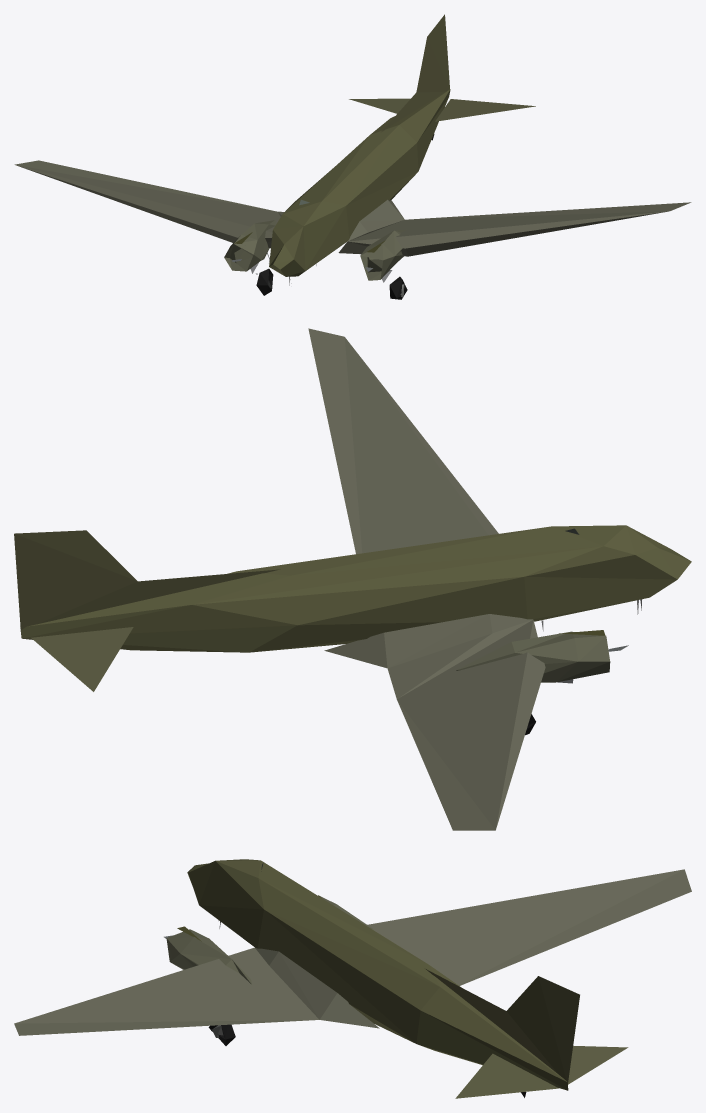
3 views of the same model, one above another, from view 1: azimuth 30°, elevation 25°; view 2: azimuth 150°, elevation 25°; view 3: azimuth 270°, elevation 25° (orthographic). The views are drawn at different scales.
Parts seen in each view (by area): view 1: Torus13-FACES; view 2: Torus13-FACES; view 3: Torus13-FACES.
Part boxes in pixels (x1,y1,x2,y2): Torus13-FACES: [14, 14, 691, 299]; Torus13-FACES: [14, 328, 691, 830]; Torus13-FACES: [14, 859, 691, 1098].
Size of the model in its own units: 19460 by 6322 by 21725.
